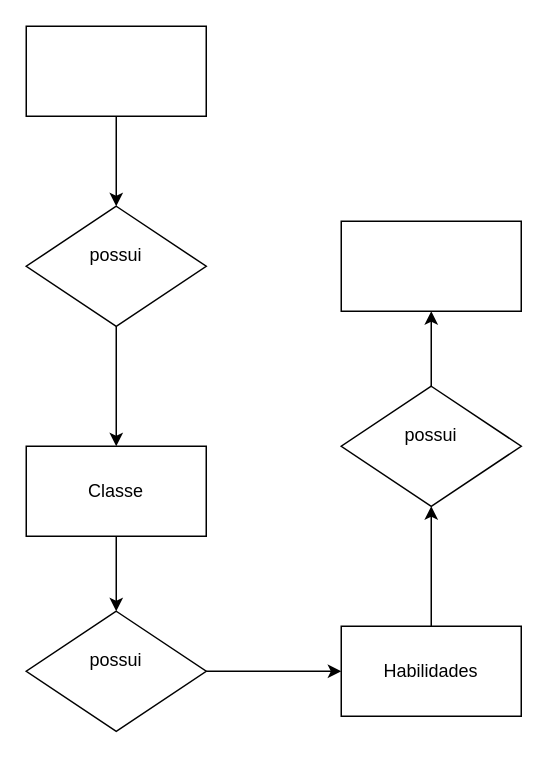
Image size: 548x758. Some labels were removed from this diagram. Here are the shapes that lost their labels. From the top down, the centre of each, then its label:
point 115,70: personagem
point 430,265: TipoHabilidades
